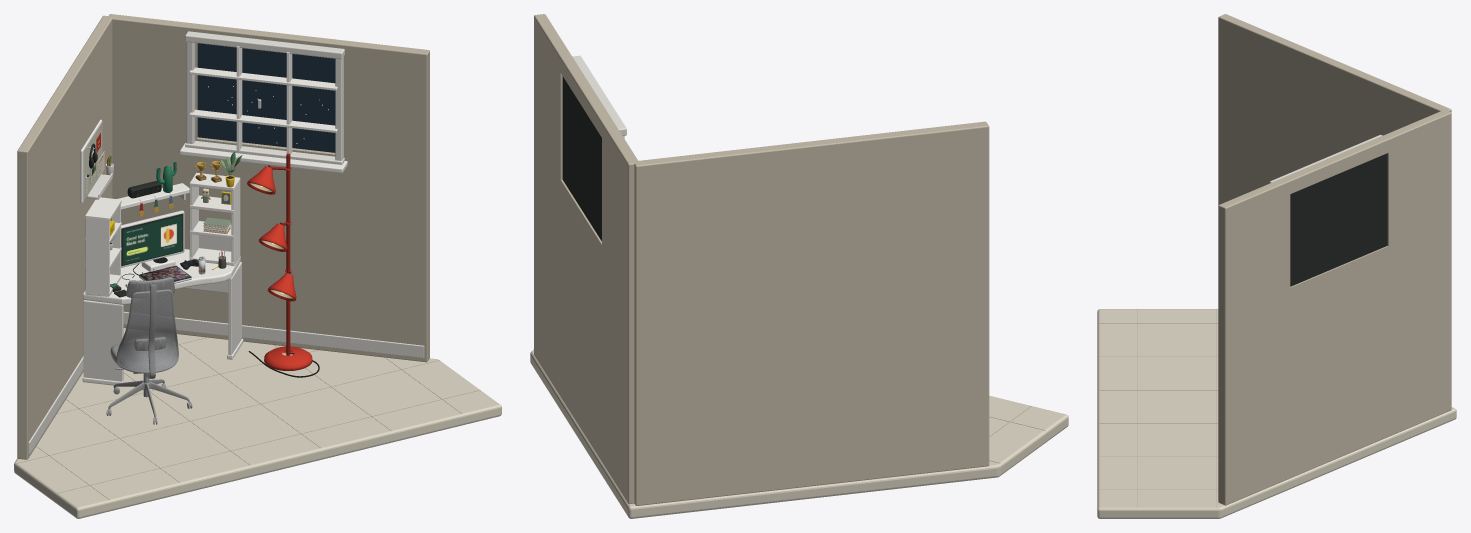
File: workspace-saved.glb
3 renders of one model, left to right at view 1: azimuth 30°, elevation 25°; view 2: azimuth 150°, elevation 25°; view 3: azimuth 270°, elevation 25°, orthographic. The views are drawn at different scales.
Parts seen in each view (by area): view 1: _static · Limewashed plaster, Room floor, window_glass, _static · Warm powder-coated white, chair · Supplied ergonomic office chair, window · Porcelain edges, window · Warm powder-coated white, workspace_left_wing · Porcelain edges, _static · Porcelain edges, workspace_right_wing · Porcelain edges, monitor_screen, _static · Tile grout (+3 smaller); view 2: _static · Limewashed plaster, Room floor, Window deep recess, window · Warm powder-coated white; view 3: _static · Limewashed plaster, Room floor, Window deep recess, _static · Tile grout.
Boxes of the visible parts, box(x1,y1,x2,y2) form: _static · Limewashed plaster: box(17, 14, 429, 459); Room floor: box(14, 328, 501, 518); window_glass: box(198, 43, 335, 152); _static · Warm powder-coated white: box(28, 194, 424, 454); chair · Supplied ergonomic office chair: box(106, 277, 192, 424); window · Porcelain edges: box(180, 46, 347, 172); window · Warm powder-coated white: box(185, 31, 344, 164); workspace_left_wing · Porcelain edges: box(80, 119, 121, 296); _static · Porcelain edges: box(82, 183, 243, 385); workspace_right_wing · Porcelain edges: box(189, 172, 240, 266); monitor_screen: box(123, 215, 182, 264); _static · Tile grout: box(17, 337, 480, 499); _static · Limewashed plaster: box(534, 14, 989, 505); Room floor: box(530, 350, 1068, 518); Window deep recess: box(562, 76, 601, 241); window · Warm powder-coated white: box(572, 55, 626, 138); _static · Limewashed plaster: box(1218, 14, 1451, 505); Room floor: box(1097, 309, 1456, 518); Window deep recess: box(1290, 153, 1387, 286); _static · Tile grout: box(1100, 309, 1420, 507).
Size of the model in its own units: 6.64 by 4.76 by 5.02.
Materials: 63 (11 with a texture image).
